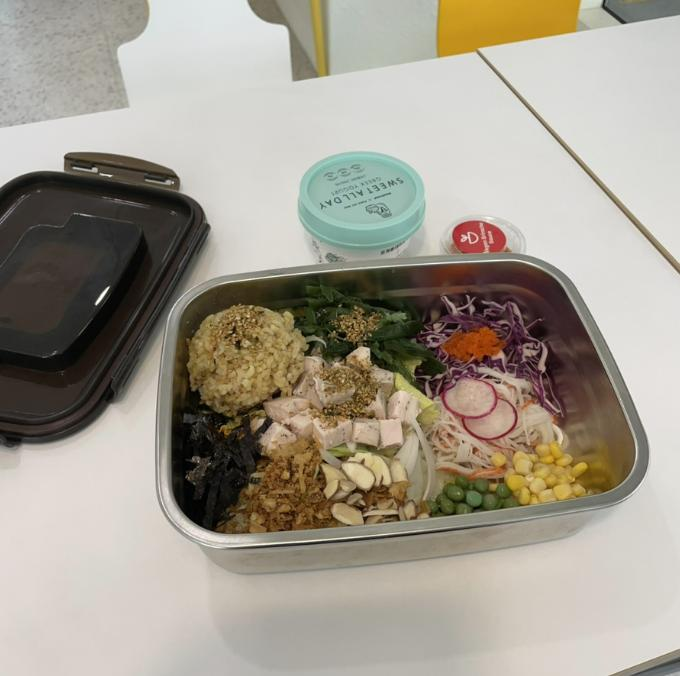Lunch Box: (156, 254, 648, 572)
cup: (298, 151, 424, 262), (441, 216, 524, 253)
